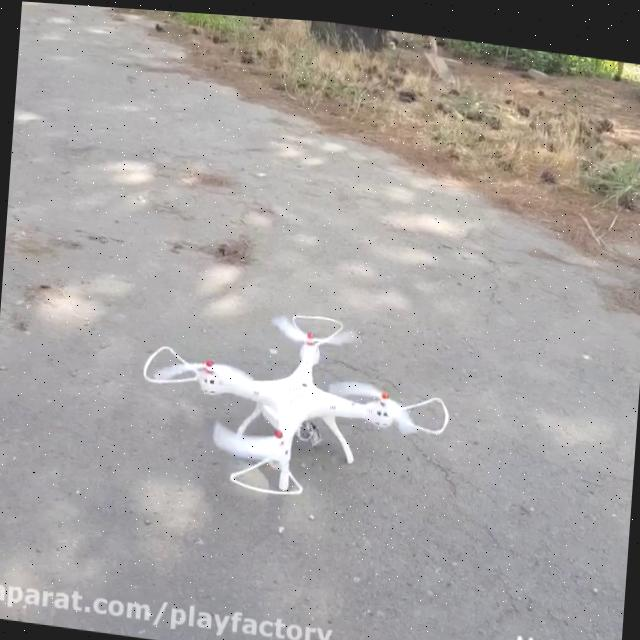drone: (128, 281, 458, 515)
